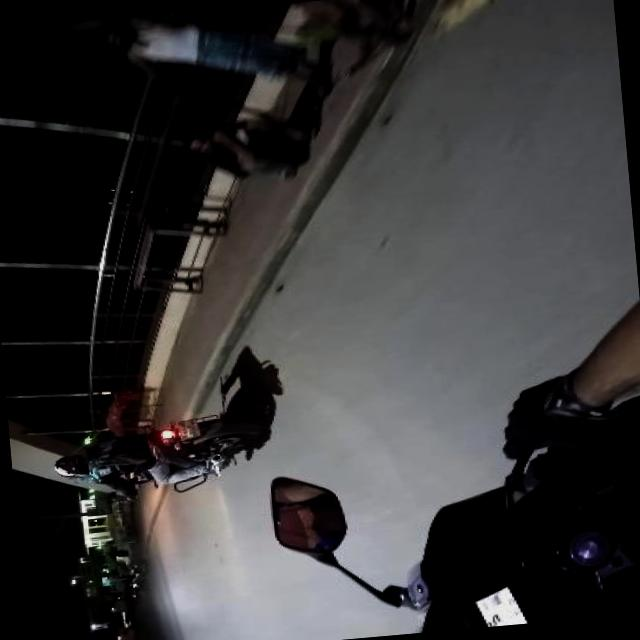motorcycle: (52, 408, 266, 502)
